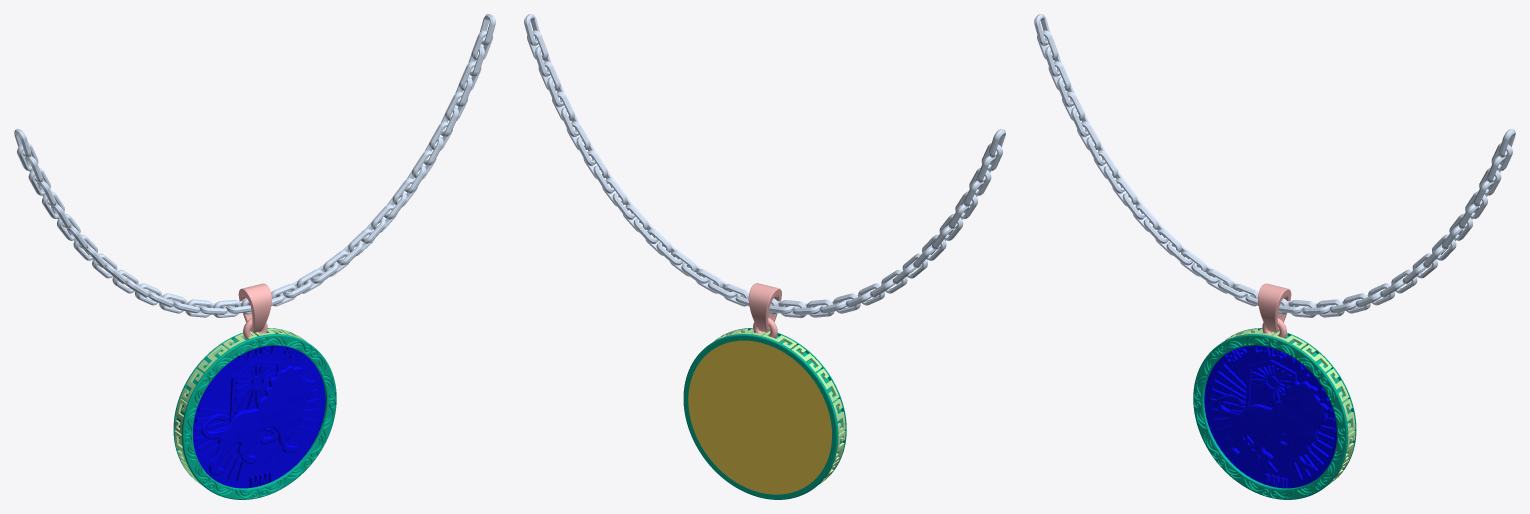
3 renders of one model, left to right at view 1: azimuth 30°, elevation 25°; view 2: azimuth 150°, elevation 25°; view 3: azimuth 330°, elevation 25°, orthographic.
Visible parts, largest first — view 1: COLOR= MATERIAL=, ZB-284 - Denya S.3dm; view 2: ZB-284 - Denya S.3dm; view 3: COLOR= MATERIAL=, ZB-284 - Denya S.3dm.
Boxes of the visible parts, box(x1,y1,x2,y2) form: COLOR= MATERIAL=: box(193, 345, 325, 488); ZB-284 - Denya S.3dm: box(173, 283, 336, 499); ZB-284 - Denya S.3dm: box(683, 283, 846, 499); COLOR= MATERIAL=: box(1204, 345, 1336, 488); ZB-284 - Denya S.3dm: box(1193, 283, 1356, 499).
Size of the model in its own units: 3.05 by 2.58 by 0.1623.
